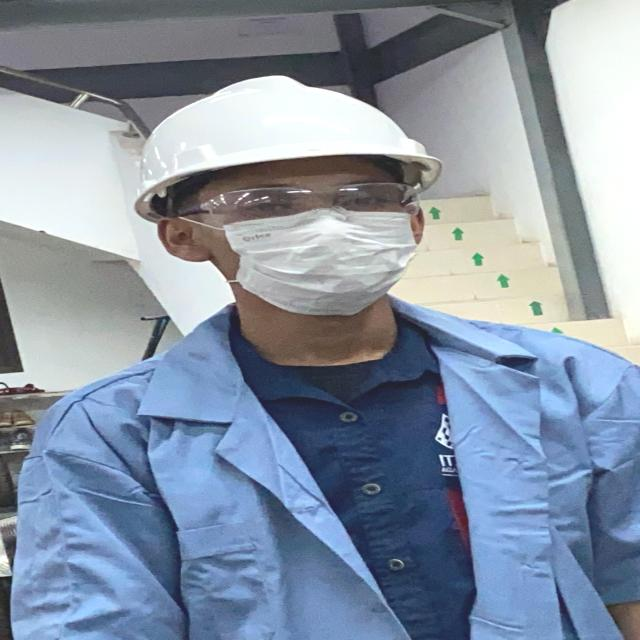face_mask: (207, 174, 428, 312)
glasses: (169, 179, 432, 227)
head_helmet: (124, 77, 440, 190)
person: (0, 75, 640, 640)
